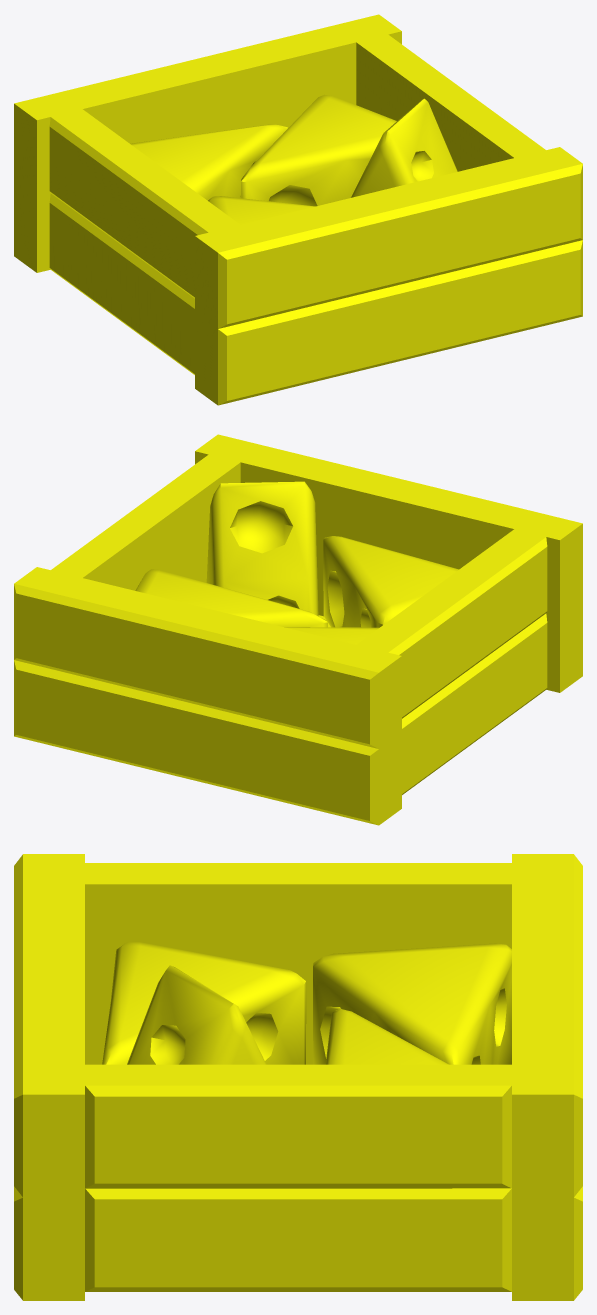
The model's file is kaykit-crate-cheese.glb.
3 renders of one model, top to bottom at view 1: azimuth 30°, elevation 25°; view 2: azimuth 150°, elevation 25°; view 3: azimuth 270°, elevation 25°, orthographic. The views are drawn at different scales.
Parts seen in each view (by area): view 1: crate_cheese; view 2: crate_cheese; view 3: crate_cheese.
Boxes of the visible parts, <box> form: crate_cheese: <box>14,14,582,405</box>; crate_cheese: <box>14,434,582,825</box>; crate_cheese: <box>14,854,582,1300</box>.
Bounding box in the file's own units: 2 × 0.9459 × 2.
